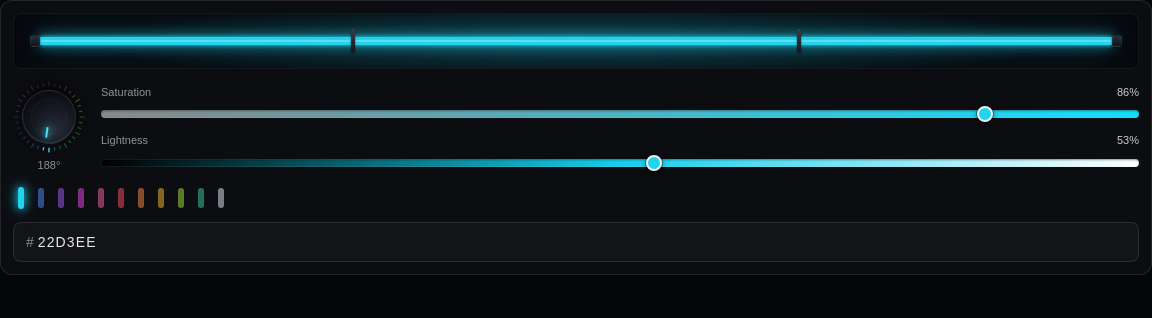
Scenario: ColorPicker › flags invalid hex and restores on Escape
The width and height of the screenshot is (1152, 318).
Replace the text in the field named "Hex color" with "22d3eg". click: (586, 242)
box: x1=34 y1=222 x2=1138 y2=260
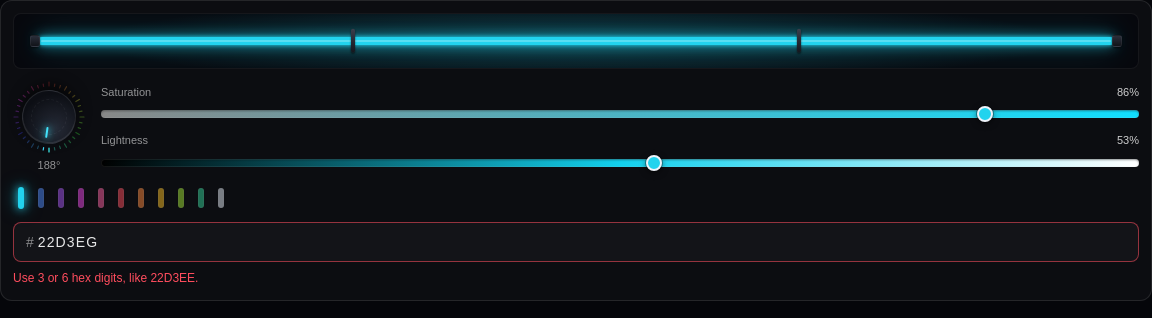
Expected: the field named "Hex color" is marked as invalid
Press Escape in the field named "Hex color", box x1=34 y1=222 x2=1138 y2=260
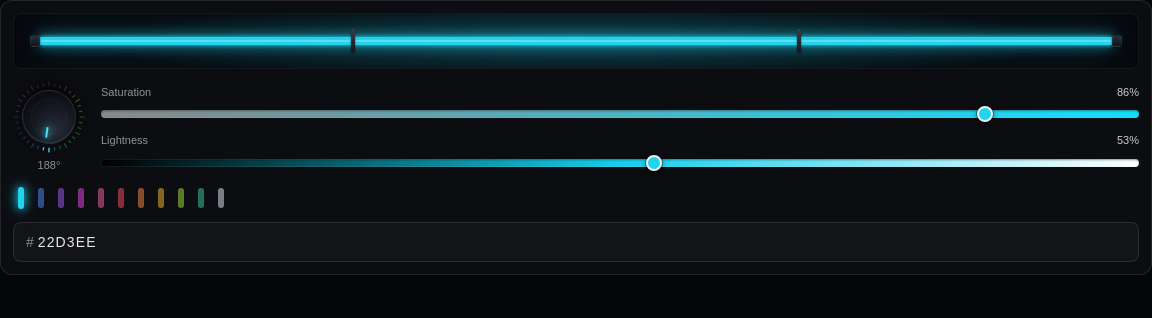
Expected: the field named "Hex color" holds "22D3EE", x1=34 y1=222 x2=1138 y2=260
